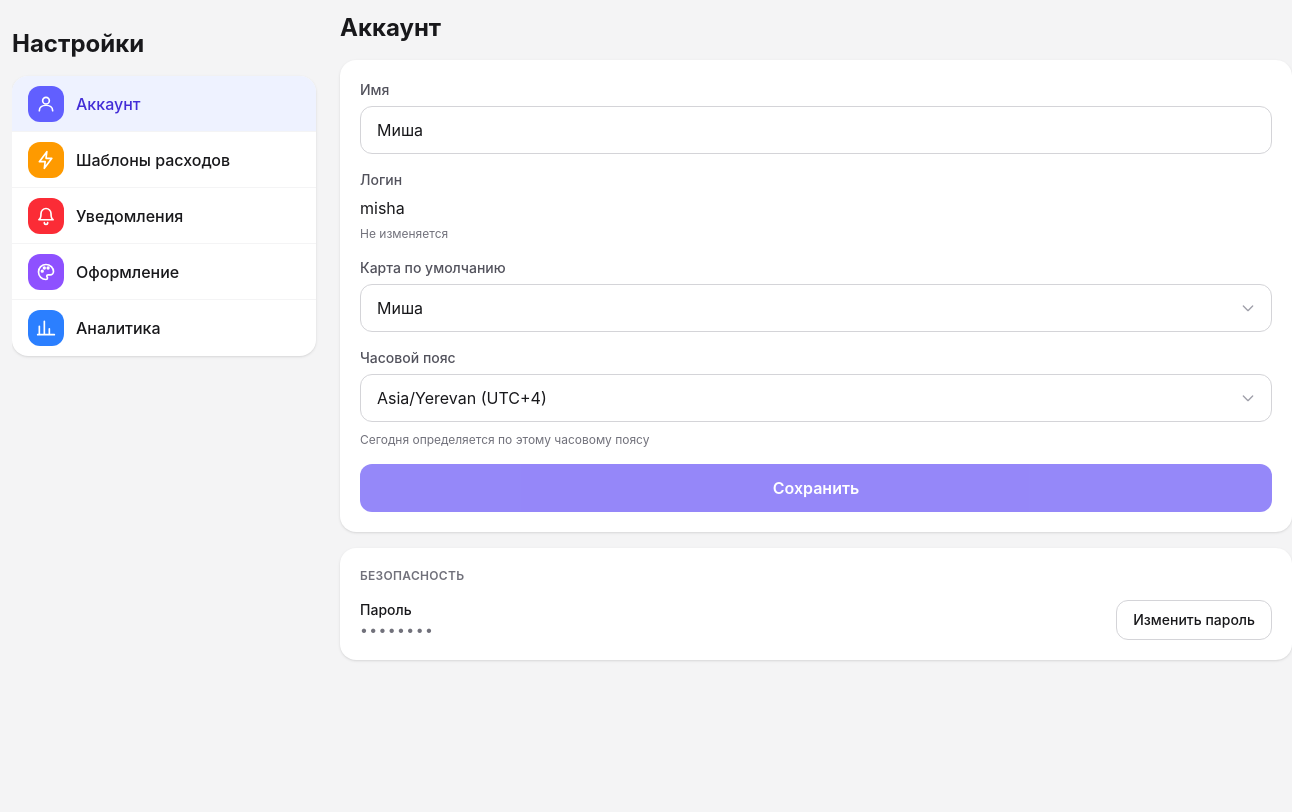
аккаунт › «Сохранить» недоступно, пока ничего не менялось; при правке отправляются только изменённые поля
Expected: the heading "Аккаунт" is shown, [340,13,441,42]
Expected: the button "Сохранить" is disabled, [360,464,1272,512]
Replace the text in the field labelled "Имя" with "  Михаил " at (816,130), box [360,106,1272,154]
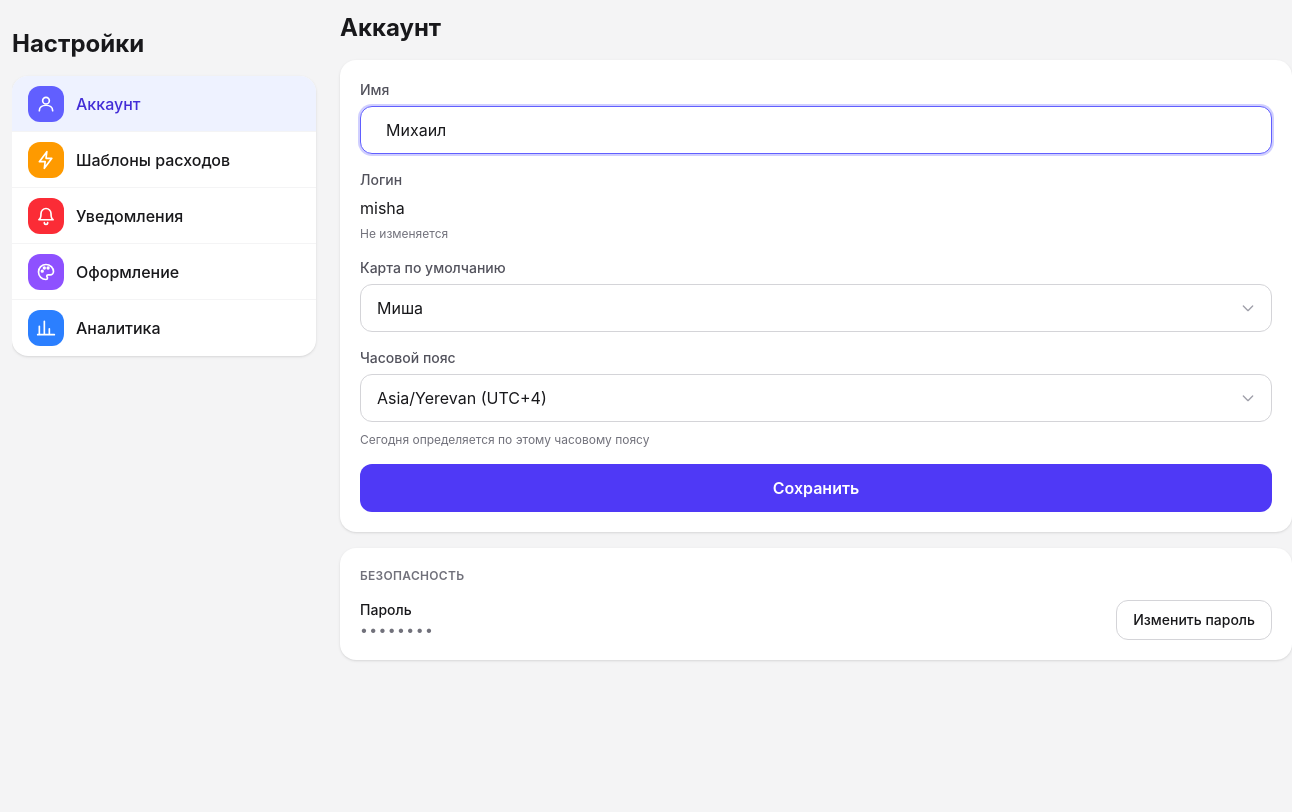
Select "Настя" in the dropdown labelled "Карта по умолчанию" at (816,308), box [360,284,1272,332]
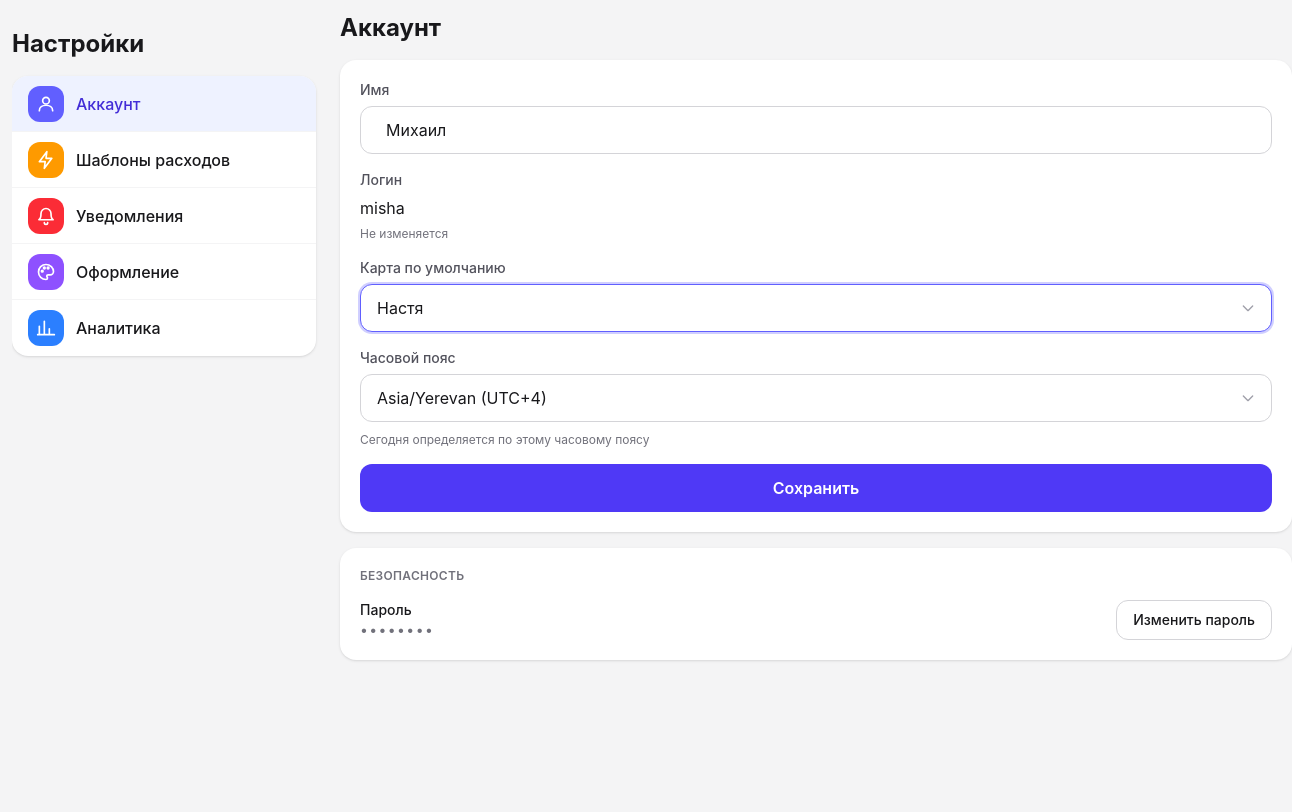
Click the button "Сохранить" at (816,488), box [360,464,1272,512]
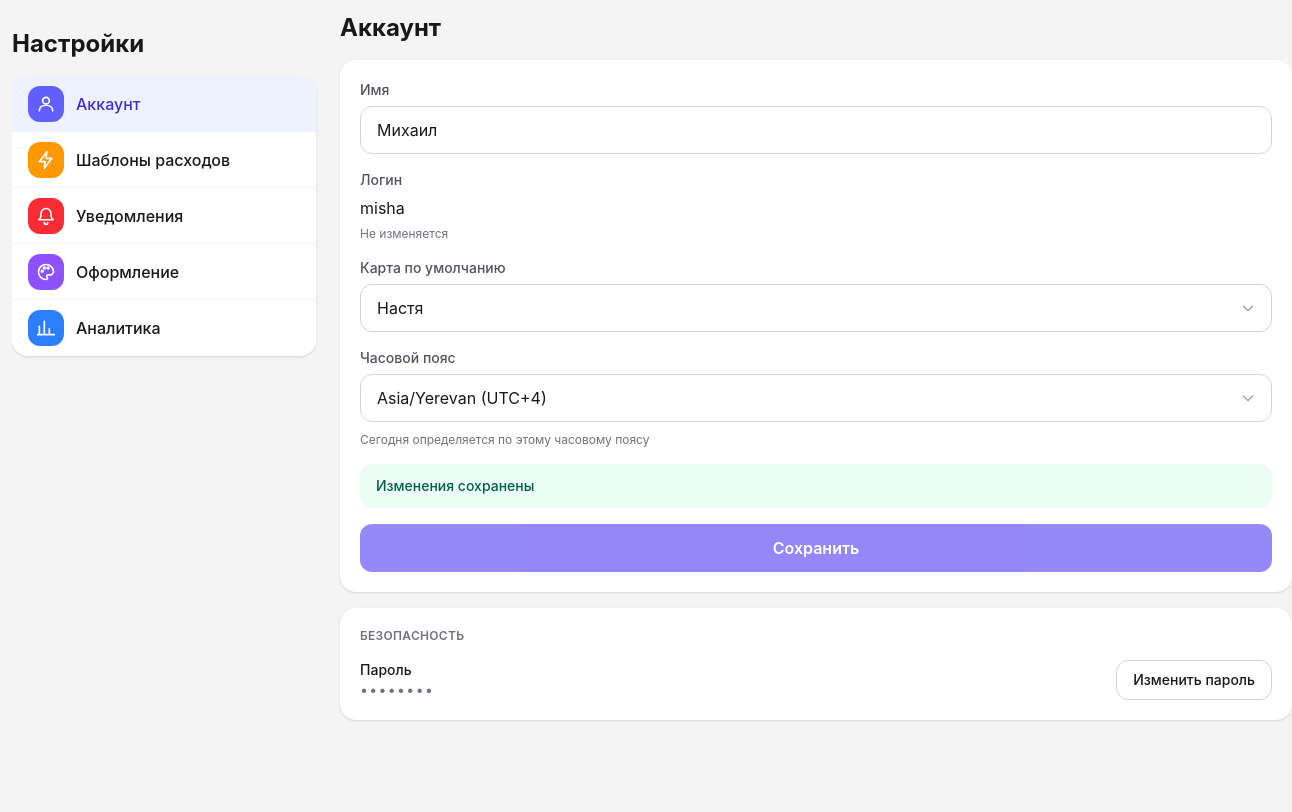
Expected: the text "Изменения сохранены" is shown, [360,464,1272,508]
